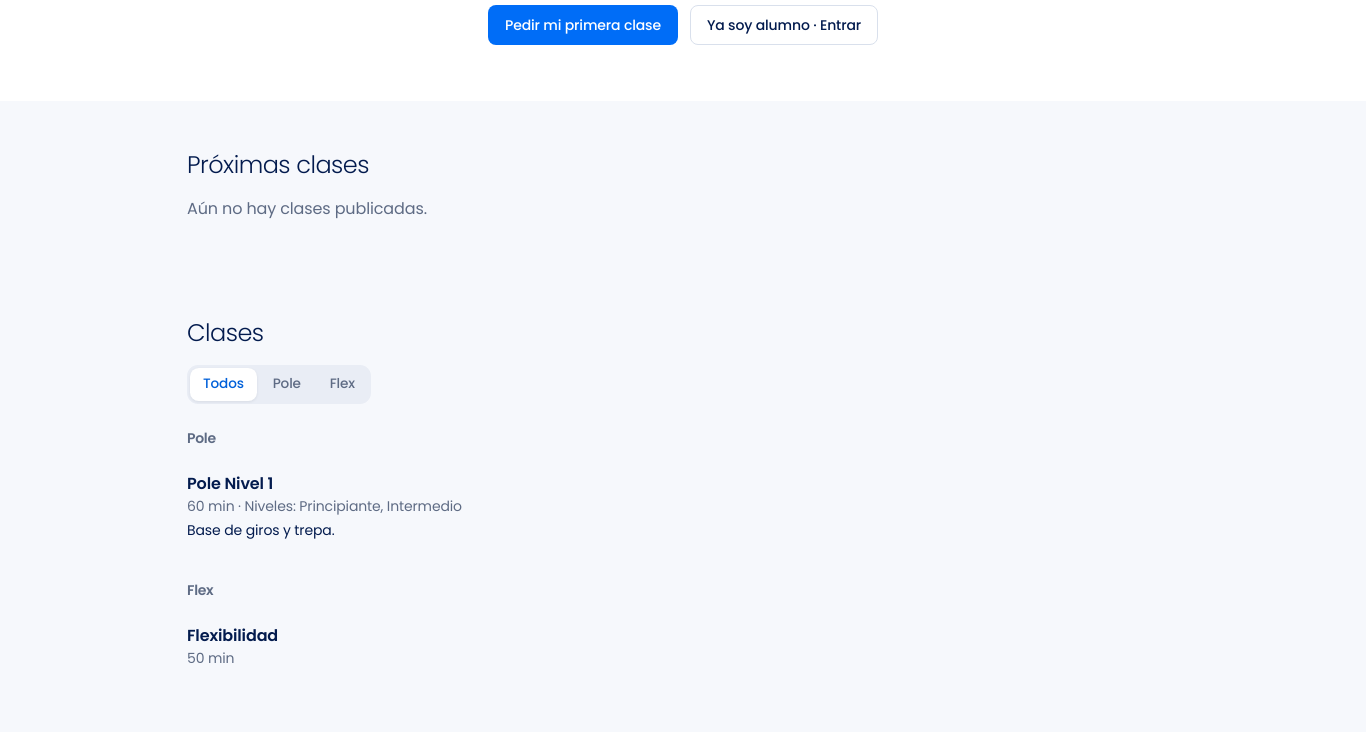
Test: página pública del estudio › muestra el perfil completo: redes, sedes con mapa y horario, servicios por categoría y horario de clases
(page scrolled)
Expected: the element that starts with "Clases" shows "Base de giros y trepa.", [187, 520, 334, 540]
Expected: the element that starts with "Clases" shows "Niveles: Principiante, Intermedio", [187, 496, 462, 516]
# Filtrar por categoría.
Click the button "Flex" at (342, 384), box [317, 368, 368, 401]
(page scrolled)
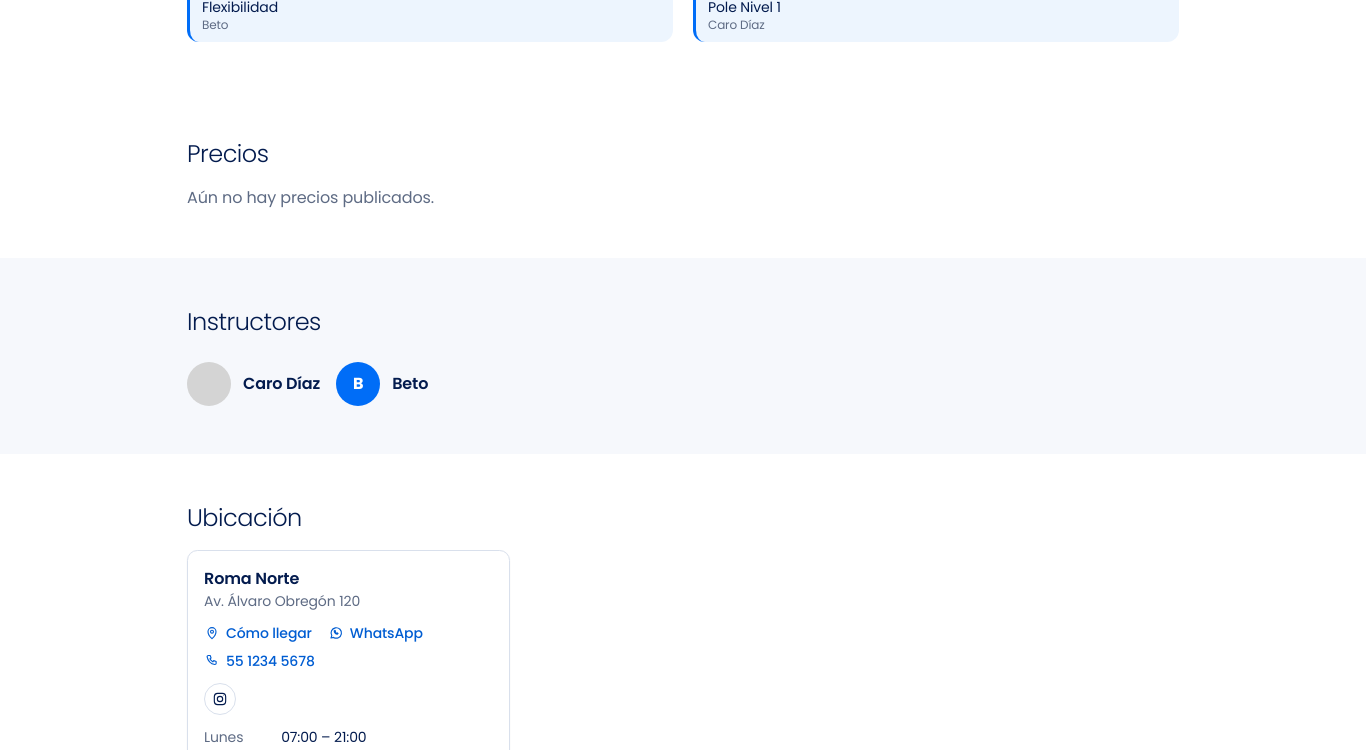
Expected: the element that starts with "Horario de clases" shows "Caro Díaz", [708, 16, 765, 33]
Expected: the text "Pole Nivel 1" is gone
